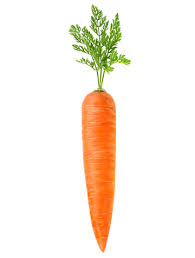carrot: (77, 85, 124, 257)
